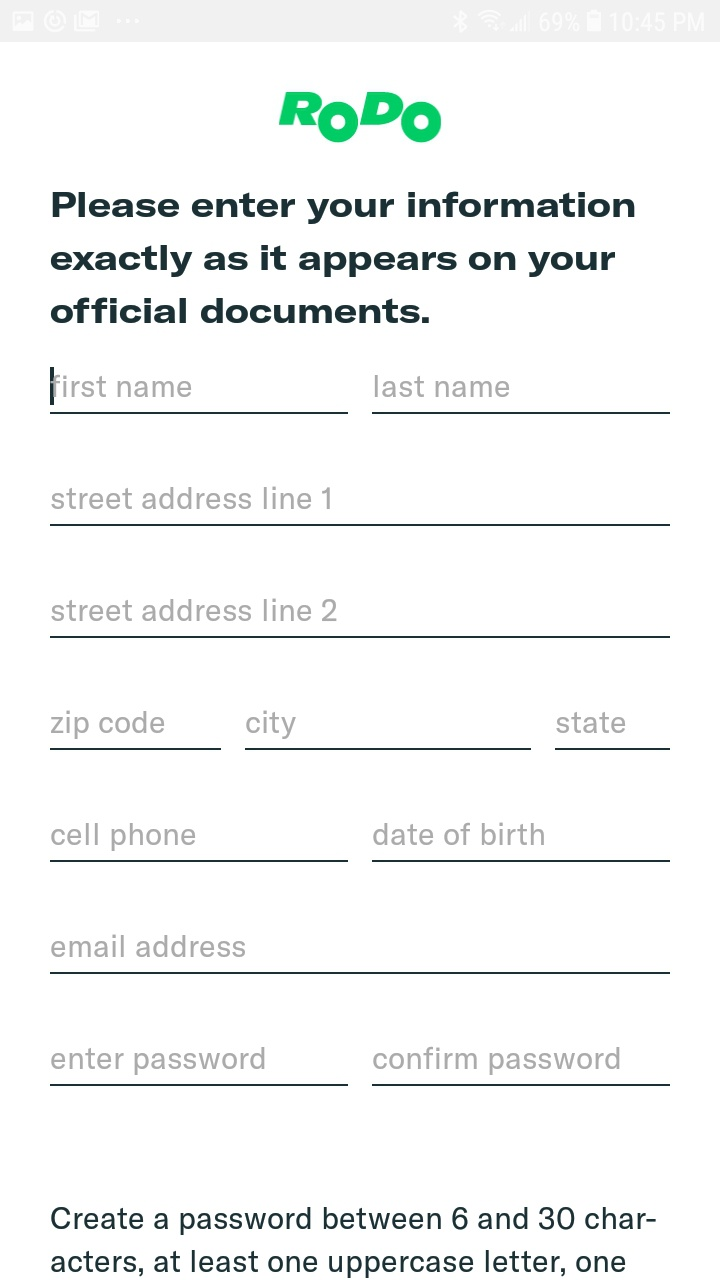EditText: (50, 933, 671, 975), (50, 598, 671, 639), (50, 487, 671, 527), (50, 367, 349, 415), (372, 1046, 671, 1087), (50, 1046, 349, 1087), (372, 822, 671, 863), (50, 823, 349, 863), (372, 375, 671, 415), (245, 710, 532, 751), (50, 710, 223, 751), (555, 712, 671, 751)
Image: (279, 92, 442, 144)
Text: (51, 192, 635, 324), (51, 1206, 657, 1278), (53, 598, 338, 622), (52, 487, 332, 510), (51, 1046, 266, 1075), (51, 933, 246, 958), (52, 823, 196, 852), (373, 822, 545, 846), (51, 711, 165, 740), (51, 375, 192, 398), (375, 375, 510, 398), (555, 712, 625, 734), (246, 710, 297, 740)
UpperTaskBar: (1, 1, 720, 43)
